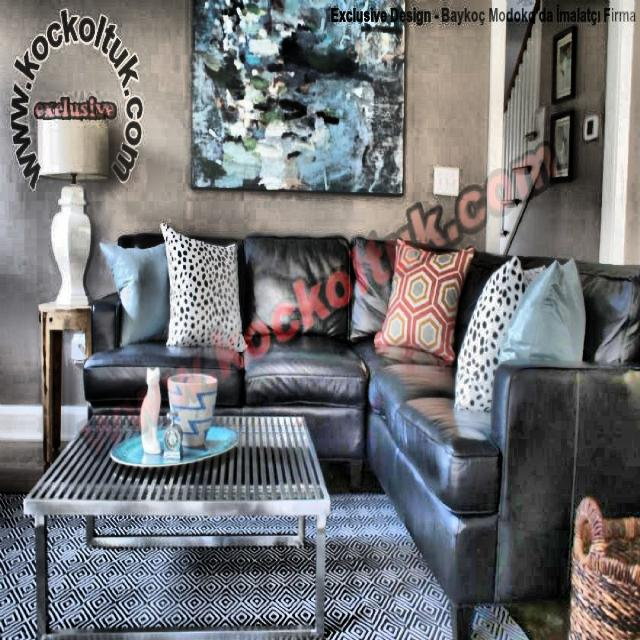sofa: (82, 227, 639, 638)
